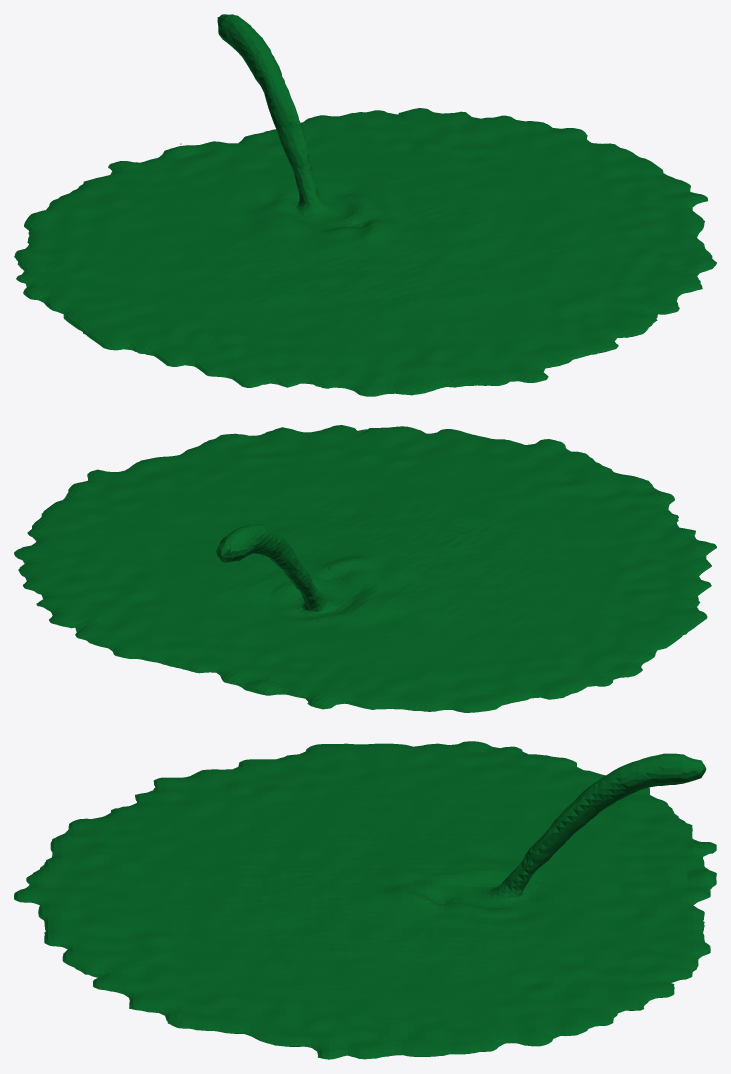
The model's file is fluid_57.fbx.
3 views of the same model, one above another, from view 1: azimuth 30°, elevation 25°; view 2: azimuth 150°, elevation 25°; view 3: azimuth 270°, elevation 25° (orthographic). The views are drawn at different scales.
Visible parts, largest first — view 1: Cube; view 2: Cube; view 3: Cube.
Part boxes in pixels (x1,y1,x2,y2): Cube: (14,14,716,396); Cube: (14,425,716,712); Cube: (14,741,716,1059).
Size of the model in its own units: 811 by 176 by 758.
